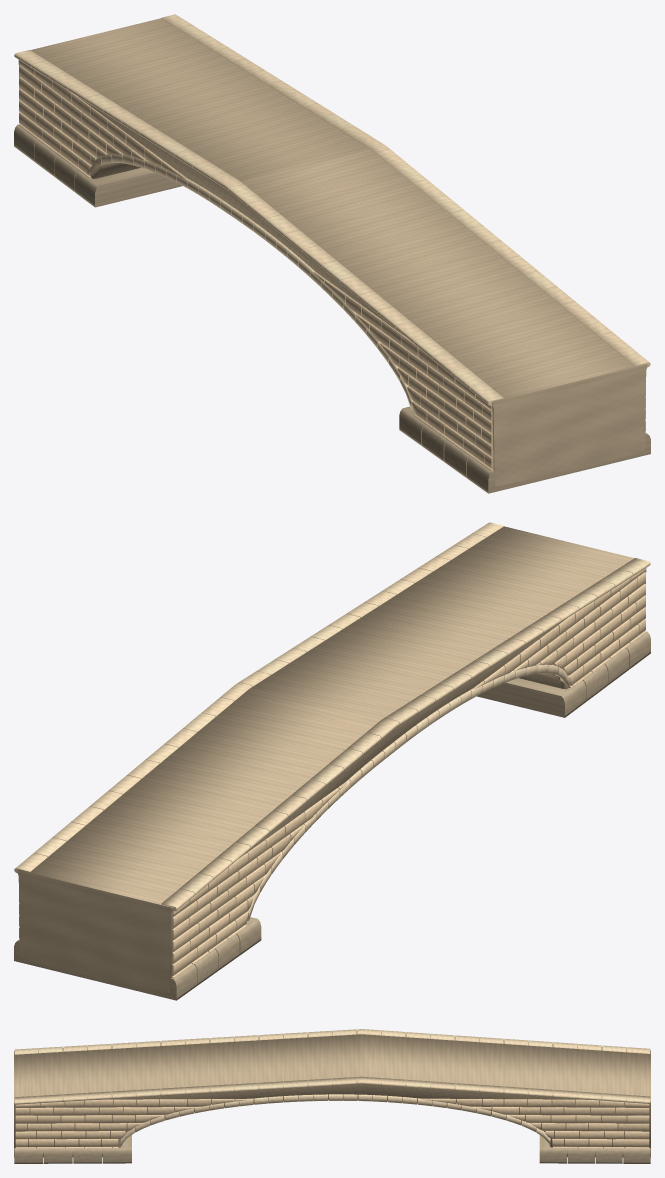
The model's file is east-bridge.glb.
3 views of the same model, one above another, from view 1: azimuth 30°, elevation 25°; view 2: azimuth 150°, elevation 25°; view 3: azimuth 270°, elevation 25° (orthographic). The views are drawn at different scales.
Visible parts, largest first — view 1: east-bridge; view 2: east-bridge; view 3: east-bridge.
Part boxes in pixels (x1,y1,x2,y2): east-bridge: (14,14,650,493); east-bridge: (14,522,650,1000); east-bridge: (14,1029,650,1163).
Bounding box in the file's own units: 4.37 × 3 × 21.5.
Materials: 2 (2 with a texture image).
